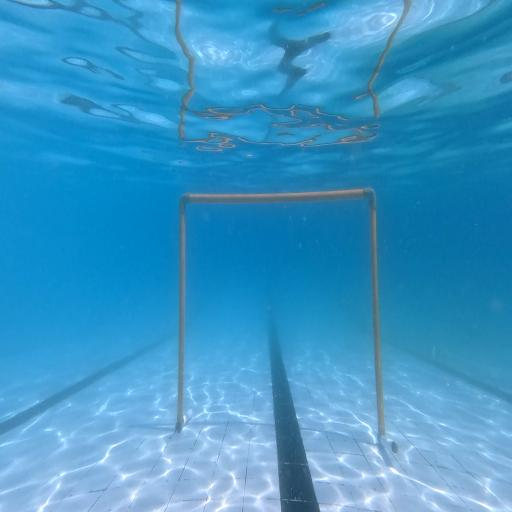gate: (176, 188, 398, 454)
